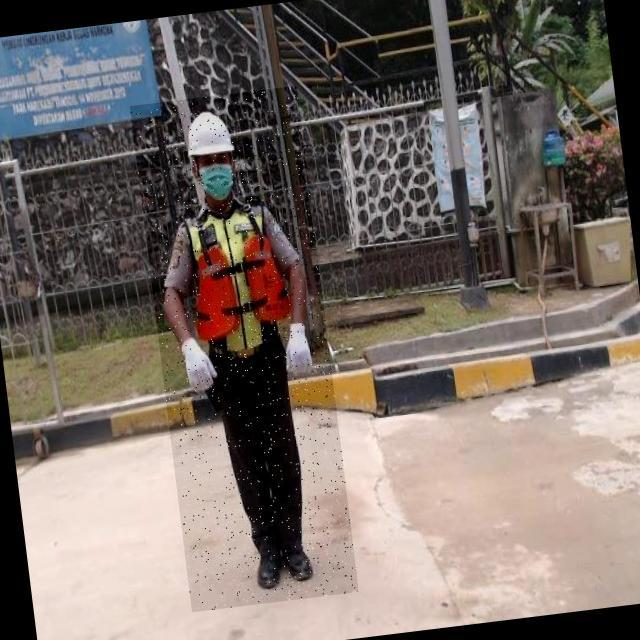Helmet: (181, 107, 236, 163)
Human: (130, 85, 359, 612)
Safety Boot: (251, 537, 286, 592), (282, 537, 317, 588)
Safety Vest: (180, 191, 297, 360)
